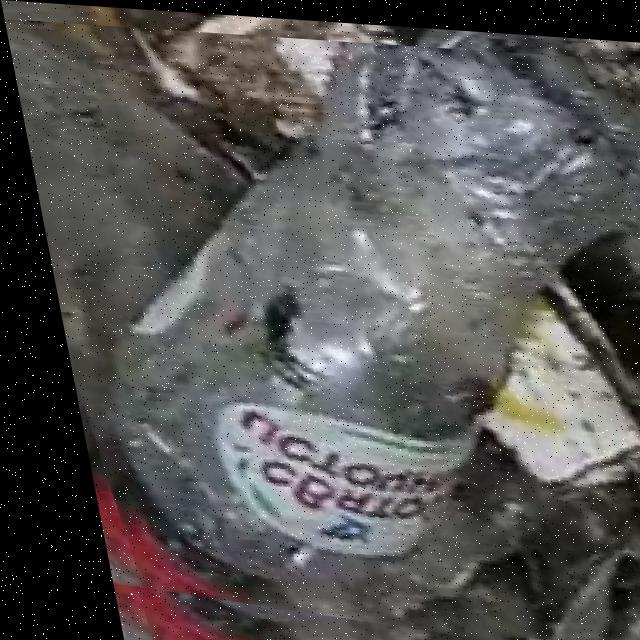litter: (3, 19, 640, 640)
